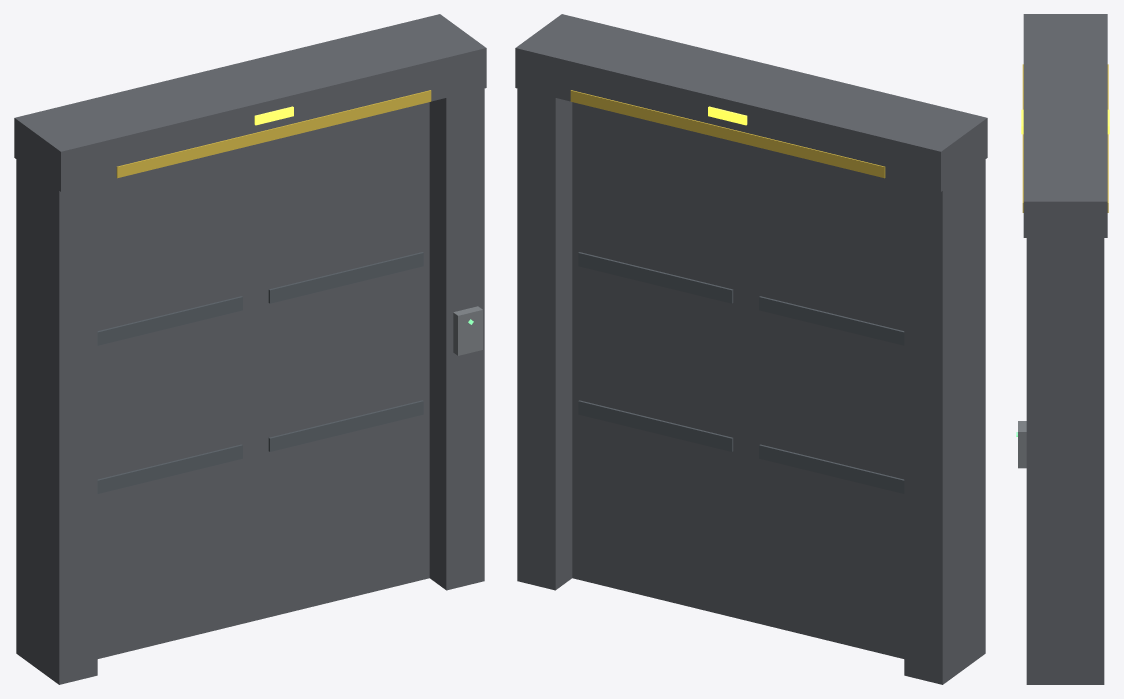
The model's file is door.glb.
3 renders of one model, left to right at view 1: azimuth 30°, elevation 25°; view 2: azimuth 150°, elevation 25°; view 3: azimuth 270°, elevation 25°, orthographic. The views are drawn at different scales.
Visible parts, largest first — view 1: airlock_door, airlock_door_mesh; view 2: airlock_door, airlock_door_mesh; view 3: airlock_door.
Part boxes in pixels (x1,y1,x2,y2): airlock_door: (14, 14, 486, 684); airlock_door_mesh: (97, 252, 423, 493); airlock_door: (515, 14, 987, 684); airlock_door_mesh: (578, 252, 904, 493); airlock_door: (1016, 14, 1109, 684).
Bounding box in the file's own units: 2 × 2.4 × 0.4215.
